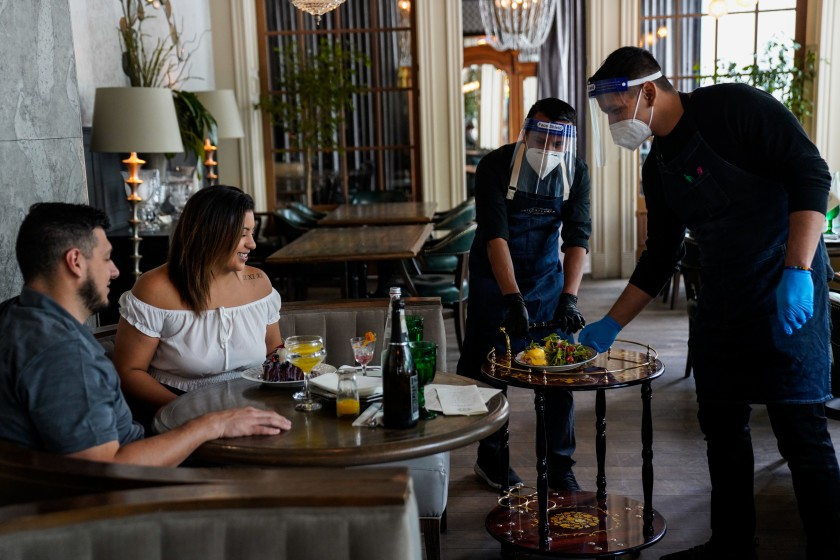with_mask: (527, 114, 563, 184), (610, 84, 642, 154)
without_mask: (84, 244, 119, 299), (234, 221, 255, 265)
